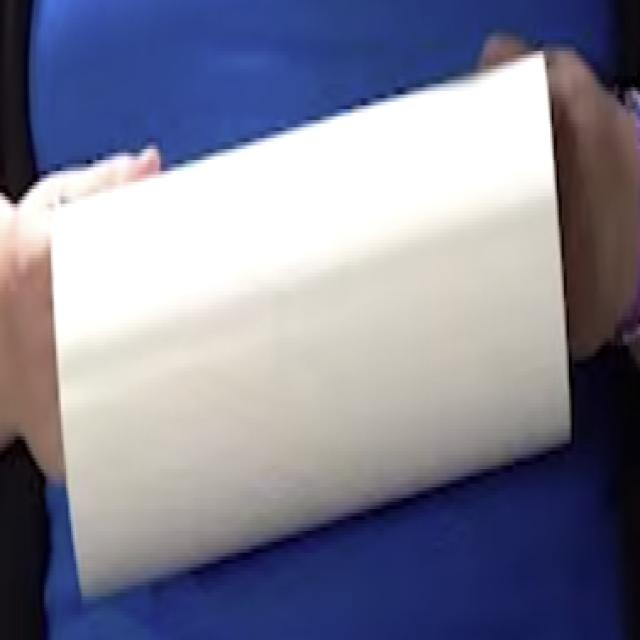Coral: (50, 52, 571, 600)
